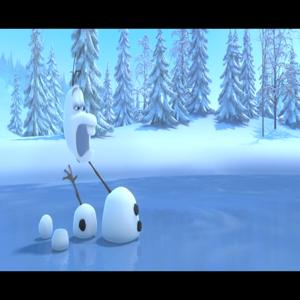olaf: (42, 63, 152, 248)
